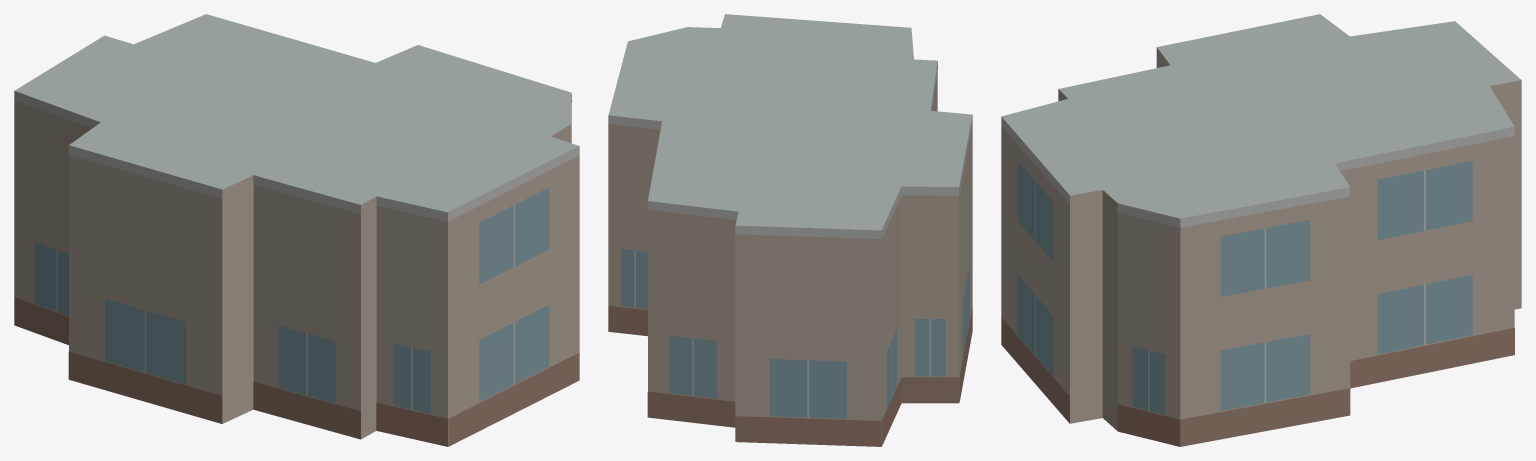
The model's file is survey-upis-32746520.glb.
3 views of the same model, side by side, from view 1: azimuth 30°, elevation 25°; view 2: azimuth 150°, elevation 25°; view 3: azimuth 270°, elevation 25° (orthographic). The views are drawn at different scales.
Visible parts, largest first — view 1: survey-upis-32746520.tmp; view 2: survey-upis-32746520.tmp; view 3: survey-upis-32746520.tmp.
Part boxes in pixels (box(x1,y1,x2,y2)): survey-upis-32746520.tmp: box(14, 14, 579, 446); survey-upis-32746520.tmp: box(608, 14, 972, 446); survey-upis-32746520.tmp: box(1001, 14, 1521, 446).
Bounding box in the file's own units: 11.74 × 6.1 × 12.61.
